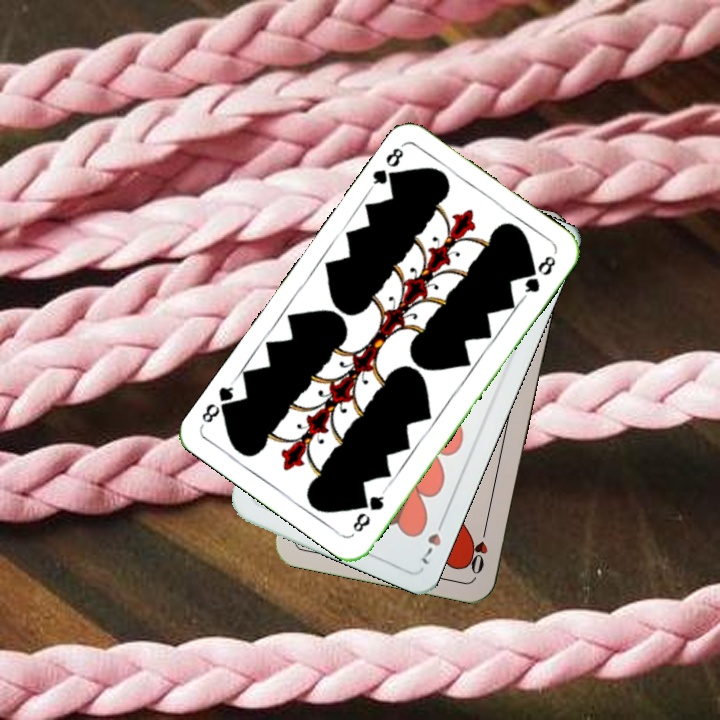G8: (365, 141, 406, 192), (348, 486, 388, 535)
H7: (417, 513, 448, 568)
HO: (464, 519, 491, 577)
